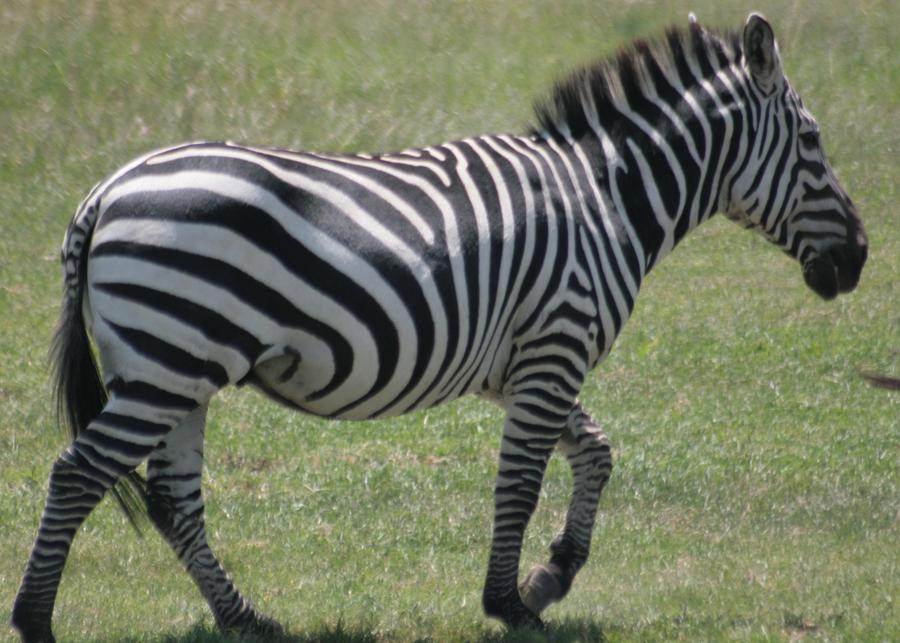zebra_plains: (103, 125, 620, 408)
